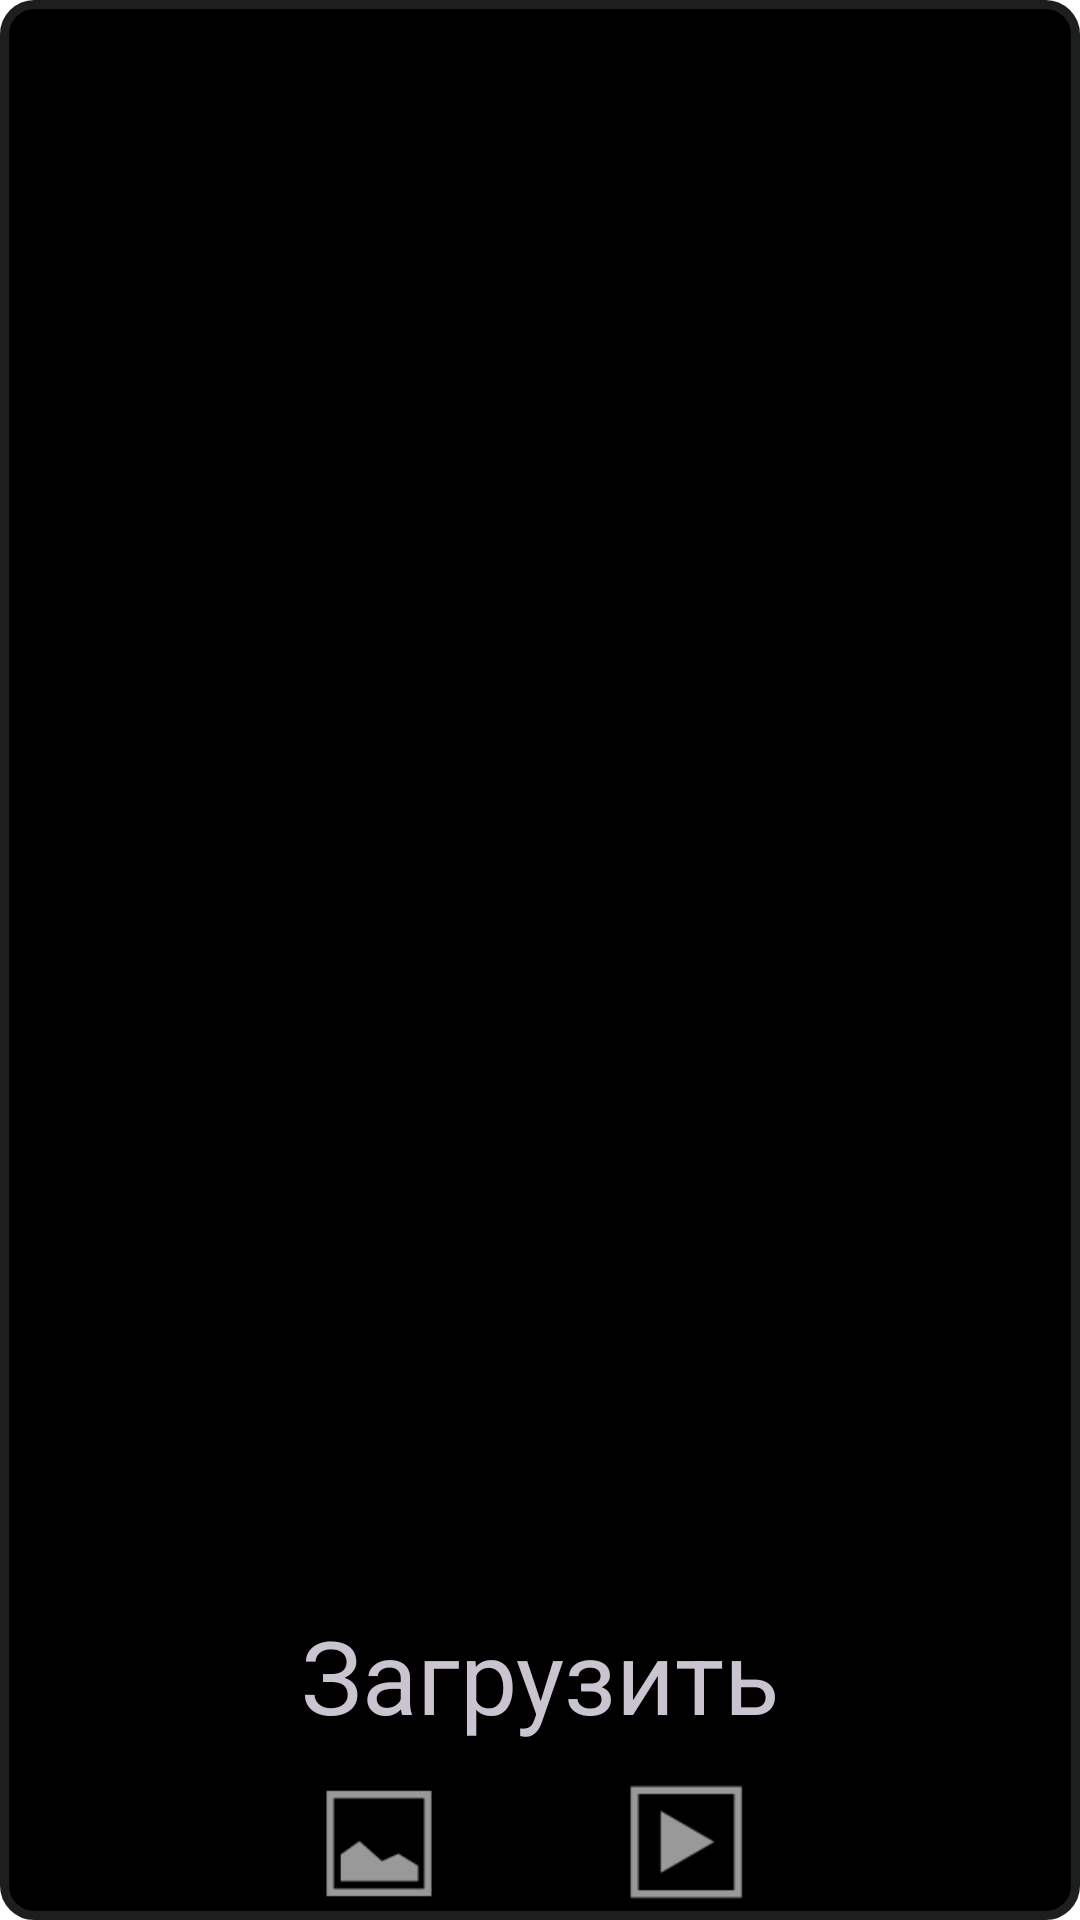

Icon click points for this 1080x1920 phone screenshot, format [x,y]:
gallery: [379,1843]
slideshow: [686,1842]
